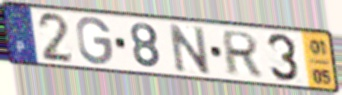2: (37, 11, 75, 65)
3: (265, 32, 302, 84)
8: (129, 22, 163, 70)
G: (74, 15, 114, 67)
N: (166, 21, 213, 76)
R: (222, 29, 263, 78)
